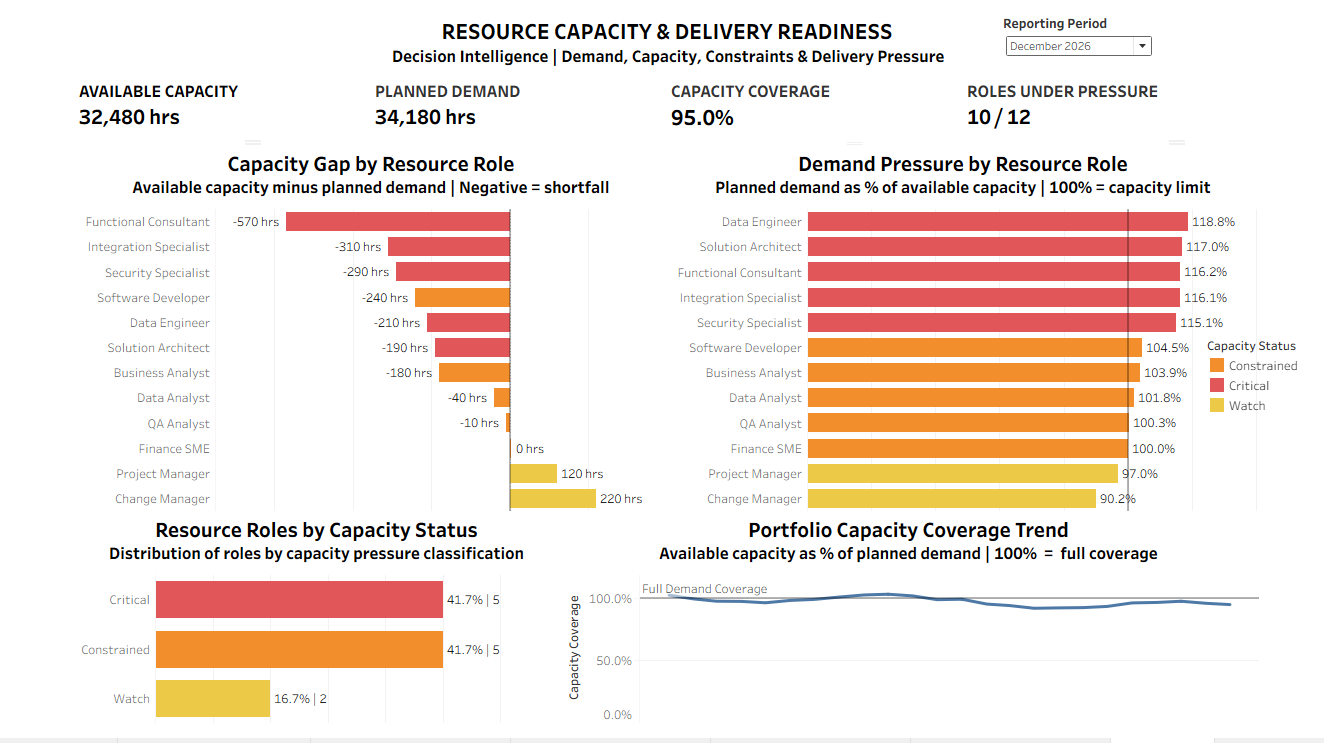

The page's visual inventory and layout, read from the dashboard file:
{"tool":"tableau","page":{"name":"Dashboard 3","canvas":[1200,800],"ordinal":2},"visuals":[{"type":"text","box":[8,8,1184,68]},{"type":"parameter","param":"[Parameters].[Parameter 0647377457364992]","box":[932,10,160,53]},{"type":"worksheet","title":"KPI 10 — Available Capacity","mark":"Automatic","box":[8,76,296,69]},{"type":"worksheet","title":"KPI 11 — Planned Demand","mark":"Automatic","rows":["Calculation_0647377621323778"],"box":[304,76,296,69]},{"type":"worksheet","title":"KPI 12 — Capacity Coverage","mark":"Automatic","box":[600,76,296,69]},{"type":"worksheet","title":"KPI 13 — Roles Under Pressure","mark":"Automatic","box":[896,76,296,69]},{"type":"worksheet","title":"VIZ 09 — Demand vs Capacity by Role","mark":"Automatic","rows":["role_name"],"cols":["Calculation_0797459971489795"],"box":[8,145,516,366]},{"type":"worksheet","title":"VIZ 10 — Capacity Pressure by Role","mark":"Automatic","rows":["role_name"],"cols":["Calculation_0639955226238976"],"box":[524,145,668,366]},{"type":"worksheet","title":"VIZ 11 — Capacity Status Profile","mark":"Automatic","rows":["capacity_status"],"cols":["role_name"],"box":[8,511,483,212]},{"type":"worksheet","title":"VIZ 12 — Capacity Coverage Trend","mark":"Automatic","rows":["Calculation_0797459962281984"],"cols":["period_start_date"],"box":[491,511,701,212]}]}

Visuals, with their boxes on the page's 1200x800 design canvas (x1, y1, x2, y2). These are canvas units, not pixel positions in the 1324x743 screenshot, which may show the page scaled, cropped or inside an application window:
text: bbox=(8, 8, 1192, 76)
parameter: bbox=(932, 10, 1092, 63)
"KPI 10 — Available Capacity" worksheet: bbox=(8, 76, 304, 145)
"KPI 11 — Planned Demand" worksheet: bbox=(304, 76, 600, 145)
"KPI 12 — Capacity Coverage" worksheet: bbox=(600, 76, 896, 145)
"KPI 13 — Roles Under Pressure" worksheet: bbox=(896, 76, 1192, 145)
"VIZ 09 — Demand vs Capacity by Role" worksheet: bbox=(8, 145, 524, 511)
"VIZ 10 — Capacity Pressure by Role" worksheet: bbox=(524, 145, 1192, 511)
"VIZ 11 — Capacity Status Profile" worksheet: bbox=(8, 511, 491, 723)
"VIZ 12 — Capacity Coverage Trend" worksheet: bbox=(491, 511, 1192, 723)
